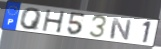1: (141, 21, 153, 44)
3: (88, 15, 108, 39)
5: (66, 11, 88, 37)
H: (42, 9, 67, 34)
N: (108, 17, 133, 42)
Q: (20, 8, 44, 32)
